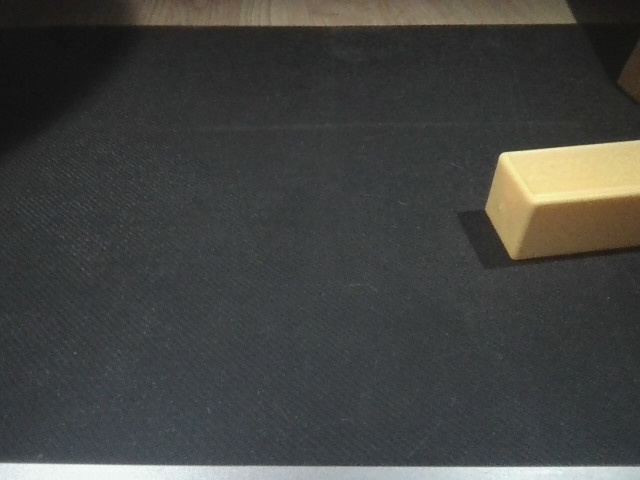YellowSample: (483, 138, 640, 262)
